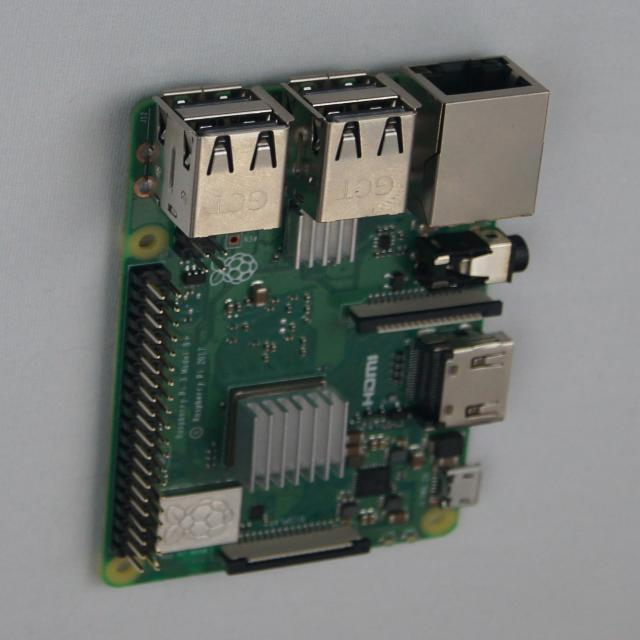Raspberry Pi 3 B-: (104, 57, 549, 585)
